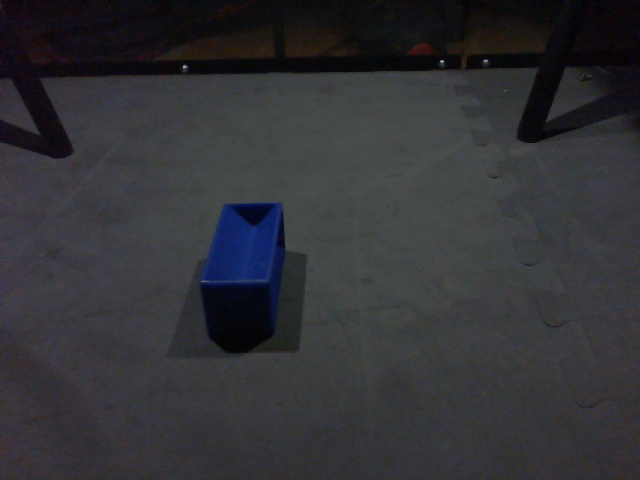BlueSample: (197, 197, 288, 340)
